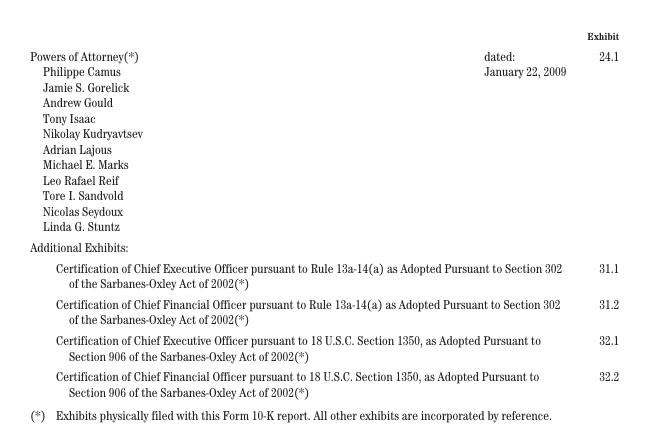table: (29, 29, 618, 398)
table column: (29, 29, 312, 398), (312, 29, 575, 398), (575, 29, 618, 398)
table column header: (29, 29, 618, 236)
table projected row header: (29, 236, 618, 256)
table row: (29, 29, 618, 236), (29, 292, 618, 329), (29, 256, 618, 292), (29, 329, 618, 365), (29, 365, 618, 398), (29, 236, 618, 256)
table spanning cell: (29, 292, 575, 329), (29, 256, 575, 292), (29, 329, 575, 365), (29, 365, 575, 398)
